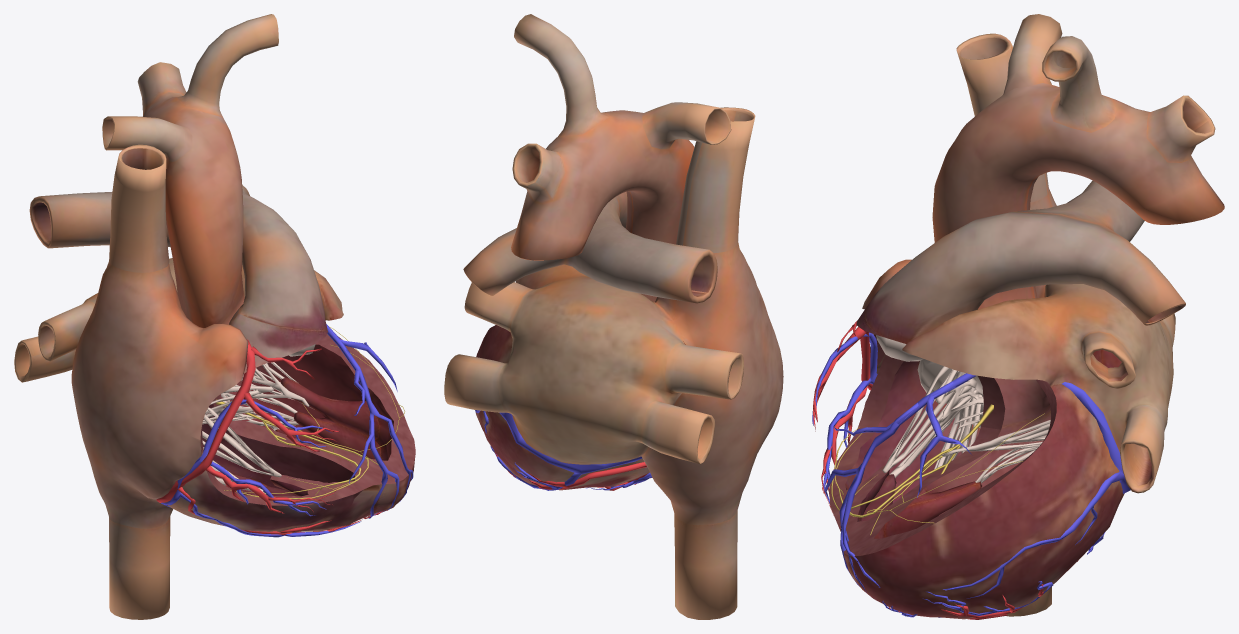
Rendered from heart.glb.
The picture shows the model from 3 angles, left to right: view 1: azimuth 30°, elevation 25°; view 2: azimuth 150°, elevation 25°; view 3: azimuth 270°, elevation 25°; orthographic projection. The views are drawn at different scales.
Visible parts, largest first — view 1: b_ostatni, b_papilarni_svaly, sinus coronarius.002, b_leva_komora, prava_tepna_vencita.002, b_prava_komora, b_ trikuspidalni_chlopen, b_mezikomorove_septum, b_mitralni_chlopen, nervy.001; view 2: b_ostatni, sinus coronarius.002, prava_tepna_vencita.002; view 3: b_ostatni, sinus coronarius.002, b_ trikuspidalni_chlopen, b_prava_komora, b_leva_komora, b_papilarni_svaly, prava_tepna_vencita.002, b_mezikomorove_septum, b_mitralni_chlopen, nervy.001, b_pulmonalni_chlopen.
Part boxes in pixels (left/top/right/bottom): b_ostatni: left=14, top=14, right=415, bottom=619; b_papilarni_svaly: left=225, top=377, right=380, bottom=502; sinus coronarius.002: left=161, top=324, right=413, bottom=537; b_leva_komora: left=221, top=344, right=393, bottom=460; prava_tepna_vencita.002: left=156, top=339, right=387, bottom=535; b_prava_komora: left=202, top=404, right=354, bottom=494; b_ trikuspidalni_chlopen: left=202, top=385, right=281, bottom=494; b_mezikomorove_septum: left=229, top=417, right=383, bottom=484; b_mitralni_chlopen: left=221, top=362, right=314, bottom=430; nervy.001: left=216, top=327, right=405, bottom=498; b_ostatni: left=444, top=14, right=783, bottom=619; sinus coronarius.002: left=475, top=410, right=652, bottom=490; prava_tepna_vencita.002: left=494, top=451, right=652, bottom=490; b_ostatni: left=828, top=14, right=1224, bottom=619; sinus coronarius.002: left=812, top=332, right=1130, bottom=617; b_ trikuspidalni_chlopen: left=882, top=359, right=983, bottom=477; b_prava_komora: left=845, top=361, right=979, bottom=521; b_leva_komora: left=874, top=378, right=1050, bottom=538; b_papilarni_svaly: left=829, top=465, right=981, bottom=537; prava_tepna_vencita.002: left=813, top=320, right=1078, bottom=619; b_mezikomorove_septum: left=848, top=426, right=1000, bottom=536; b_mitralni_chlopen: left=942, top=420, right=1050, bottom=483; nervy.001: left=831, top=404, right=1044, bottom=535; b_pulmonalni_chlopen: left=876, top=335, right=923, bottom=361.
Bounding box in the file's own units: 0.1203 × 0.2148 × 0.125.
Materials: 1 (1 with a texture image).
